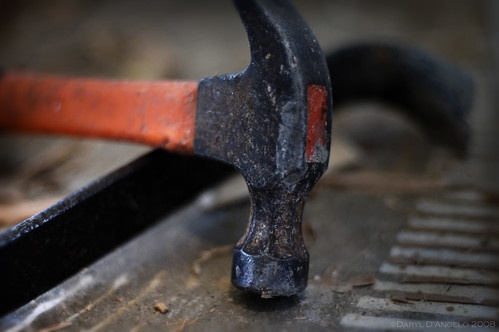hammer: (0, 0, 335, 304)
